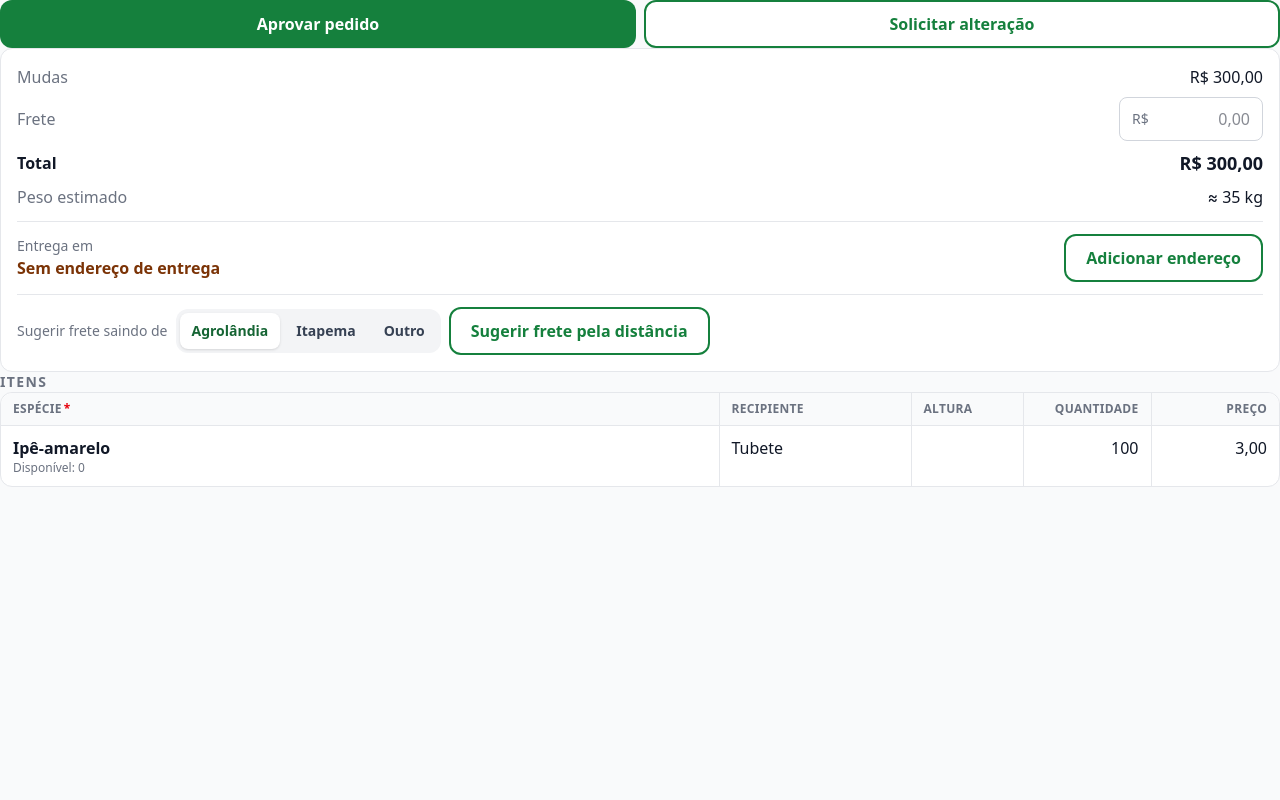
Test: ItensDaFicha: o fechamento do pedido (RF-66) › pedido sem endereço: o botão abre o endereço, e gravar sugere o frete de novo
Check: the text "Sem endereço de entrega" is shown, box [17, 256, 220, 280]
Click the button "Sugerir frete pela distância".
click(579, 331)  # box [449, 307, 710, 355]
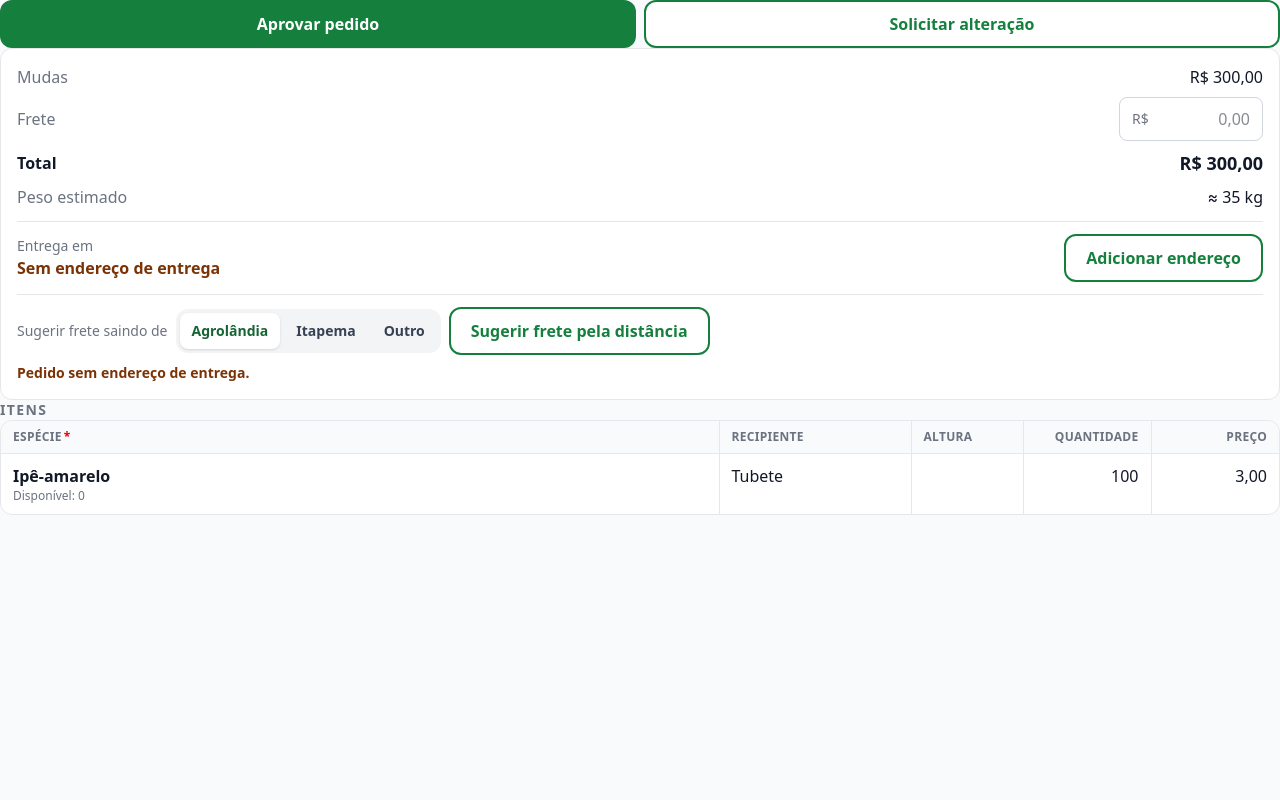
Click the button "Adicionar endereço".
click(1164, 258)  # box [1064, 234, 1263, 282]
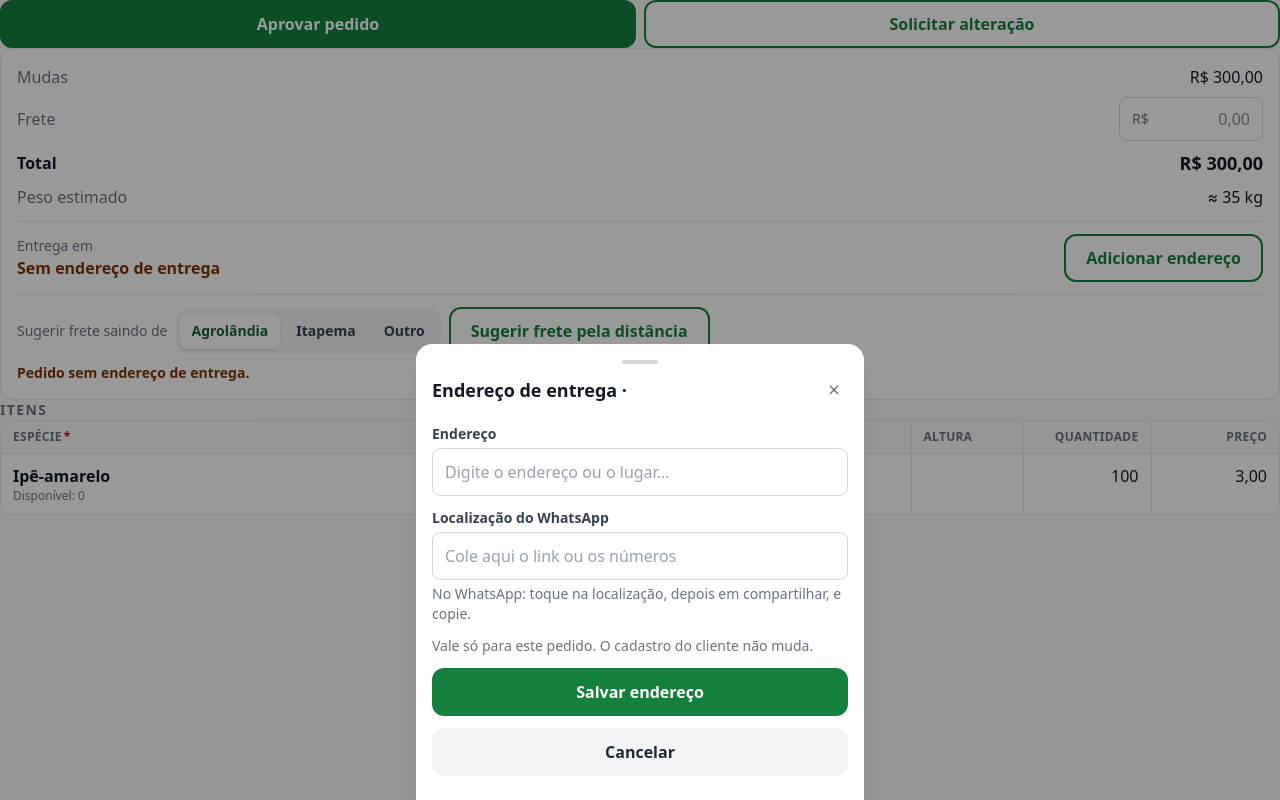
Type "Rua XV, 120" into the dropdown labelled "Endereço".
click(640, 472); type("Rua XV, 120")  # box [432, 448, 848, 496]
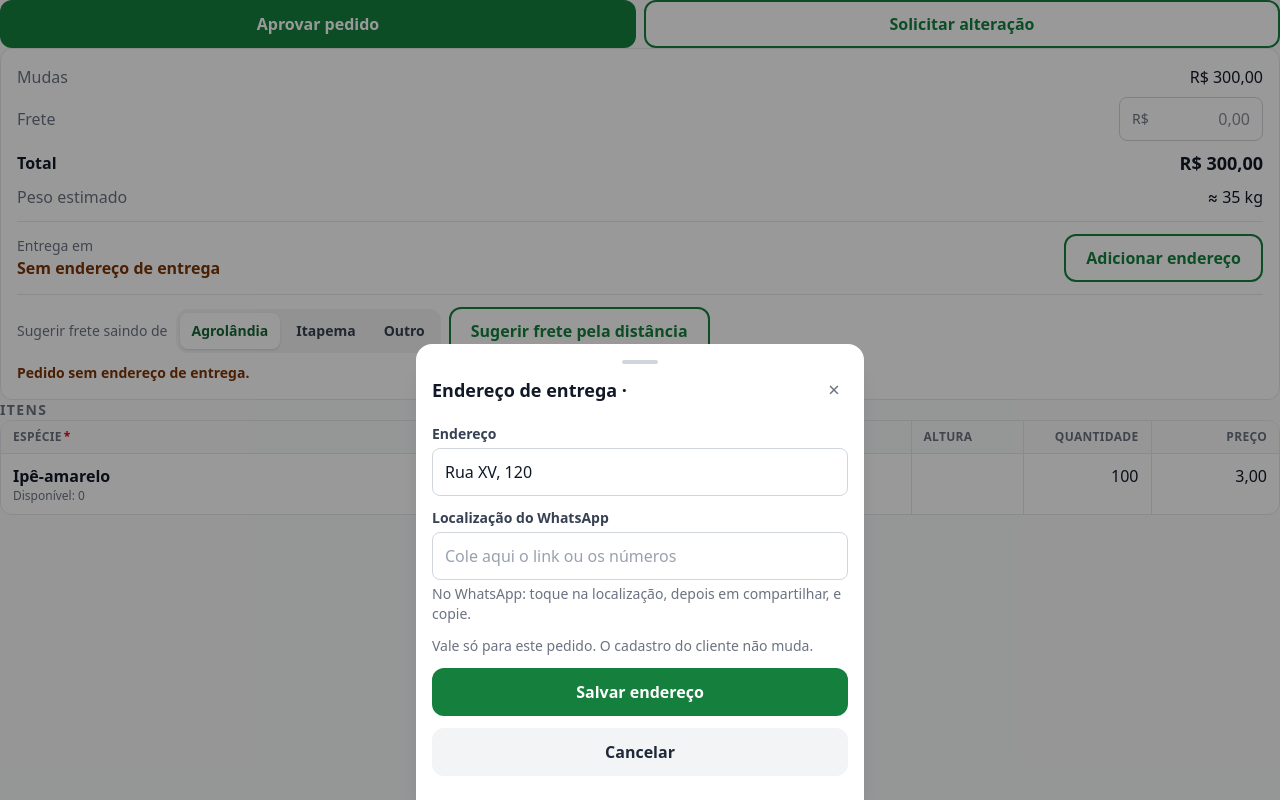
Click the button "Salvar endereço".
click(640, 692)  # box [432, 668, 848, 716]
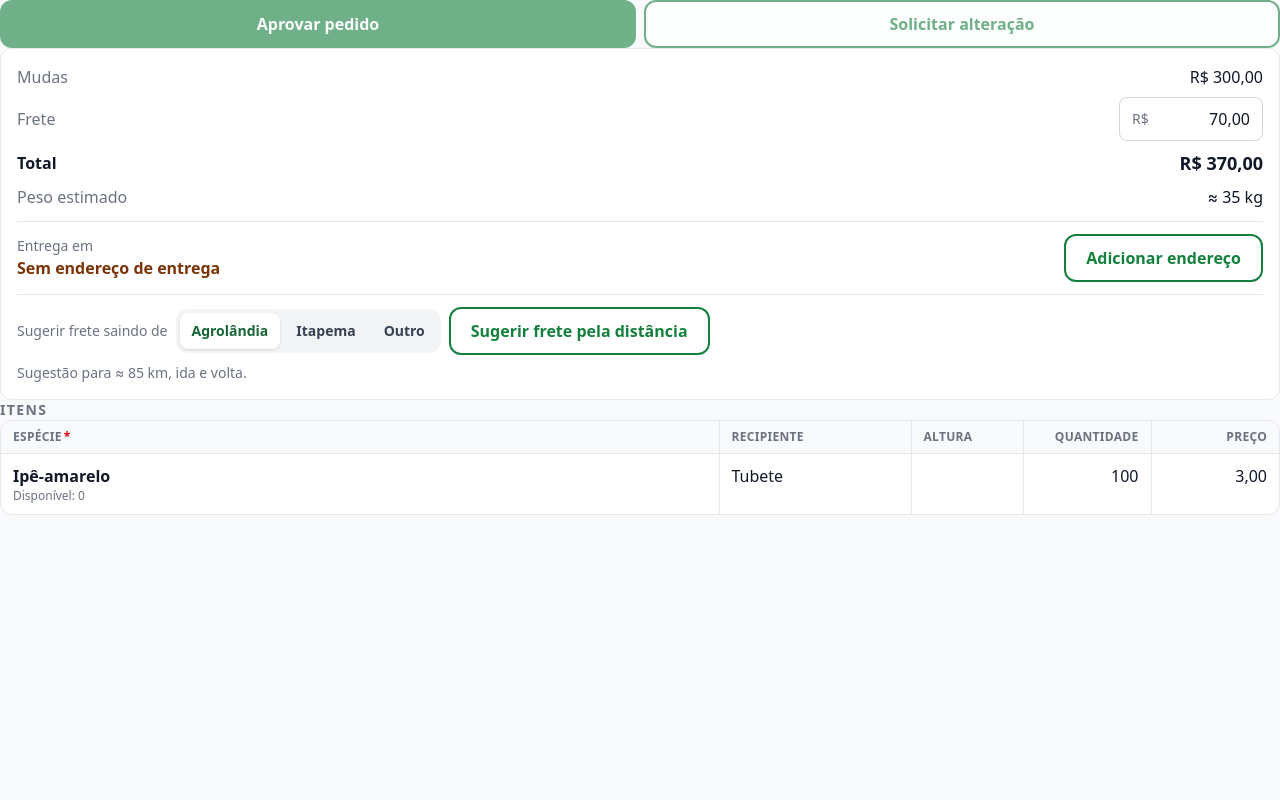
Check: the field named "Frete" holds "70,00", box [1157, 107, 1250, 131]
Check: the button "Salvar endereço" is gone
